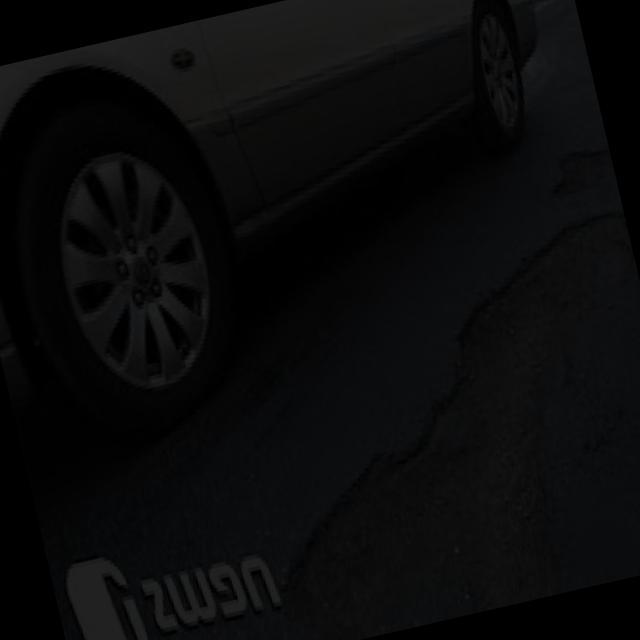pothole: (177, 206, 640, 640), (525, 125, 619, 212)
